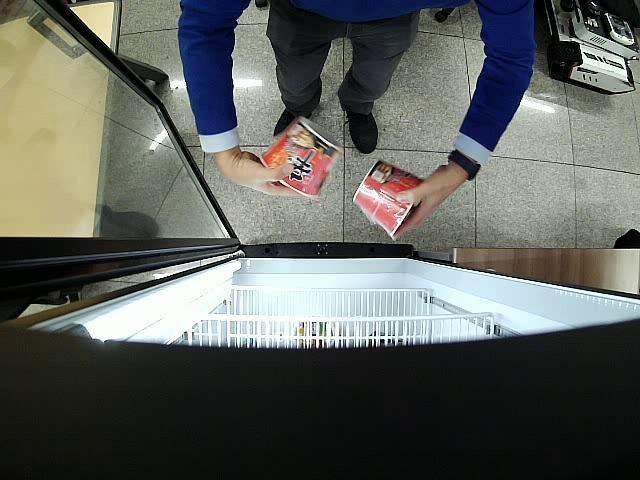01_ShinRamen_L: (262, 115, 341, 200), (352, 160, 423, 239)
